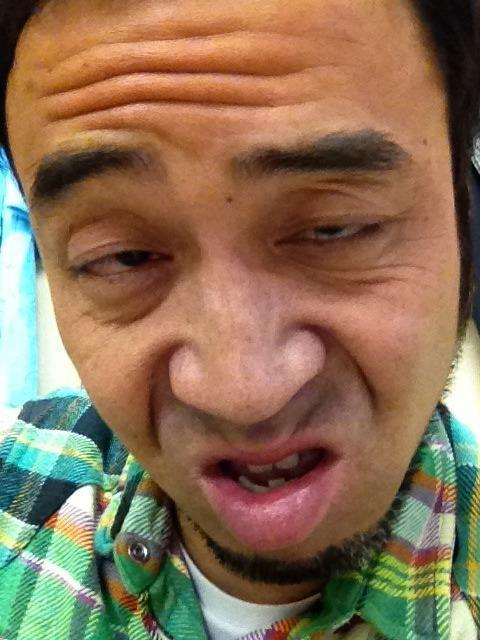Drunk: (34, 22, 448, 559)
